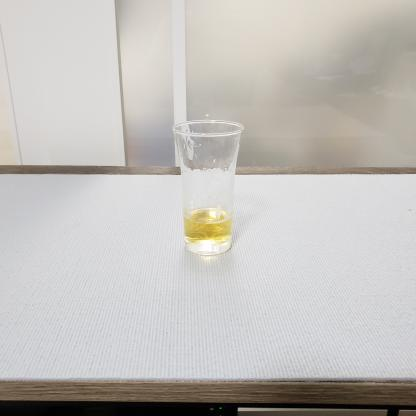glass: (171, 116, 265, 267)
